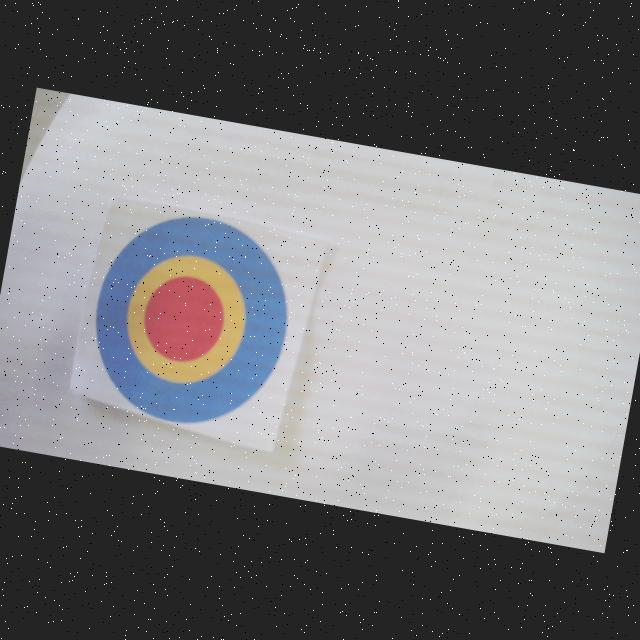COGNITIVE: (80, 202, 304, 440)
